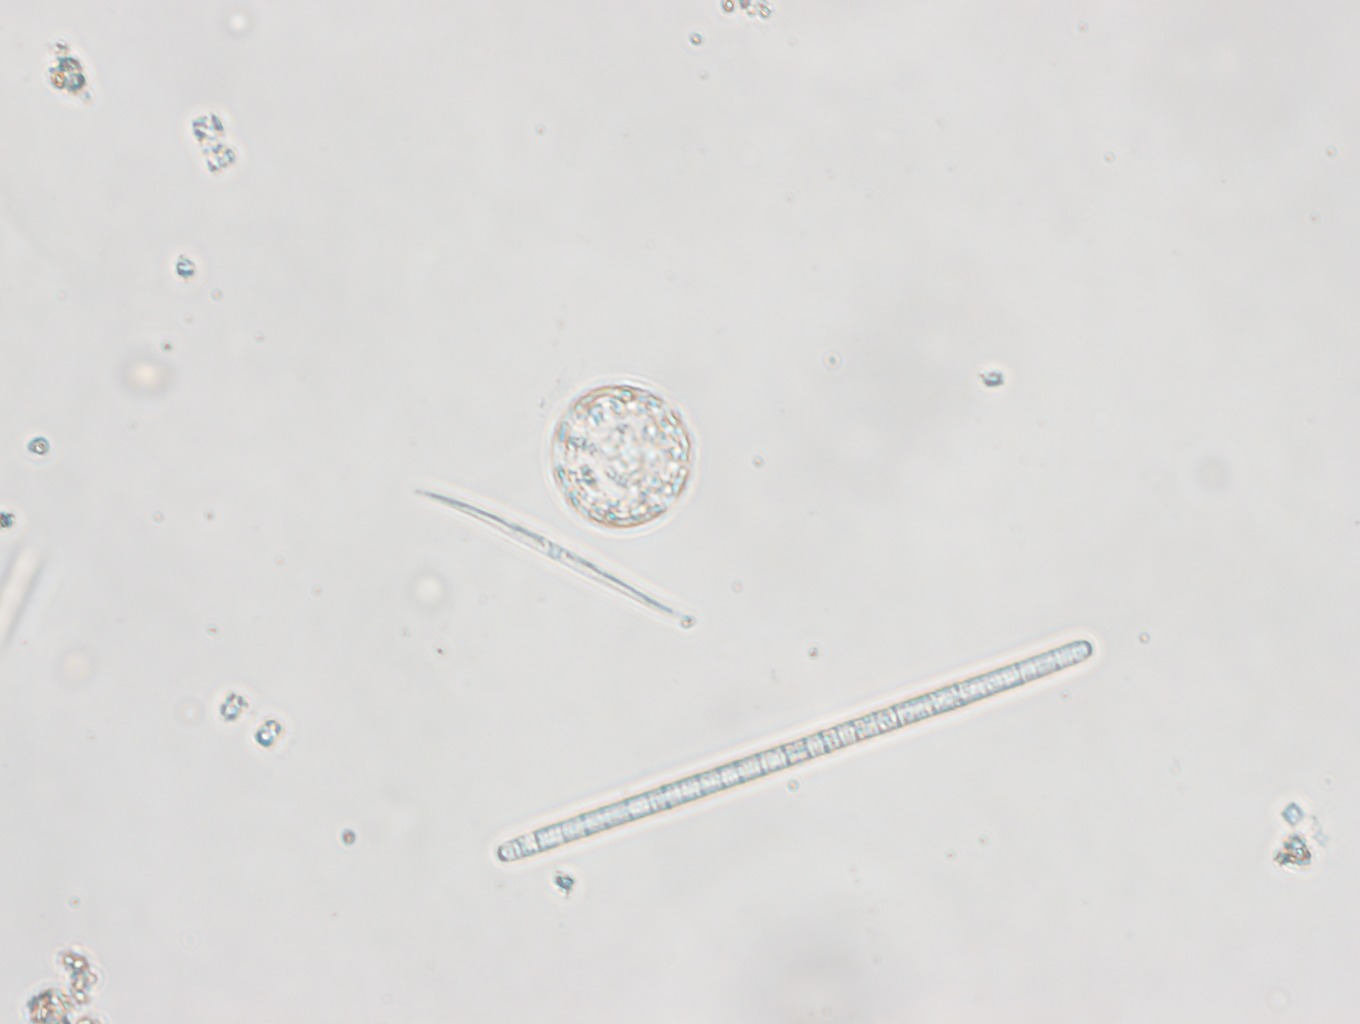pleurosigma pelagicum: (402, 477, 714, 655)
skeletonema: (201, 667, 301, 765)
